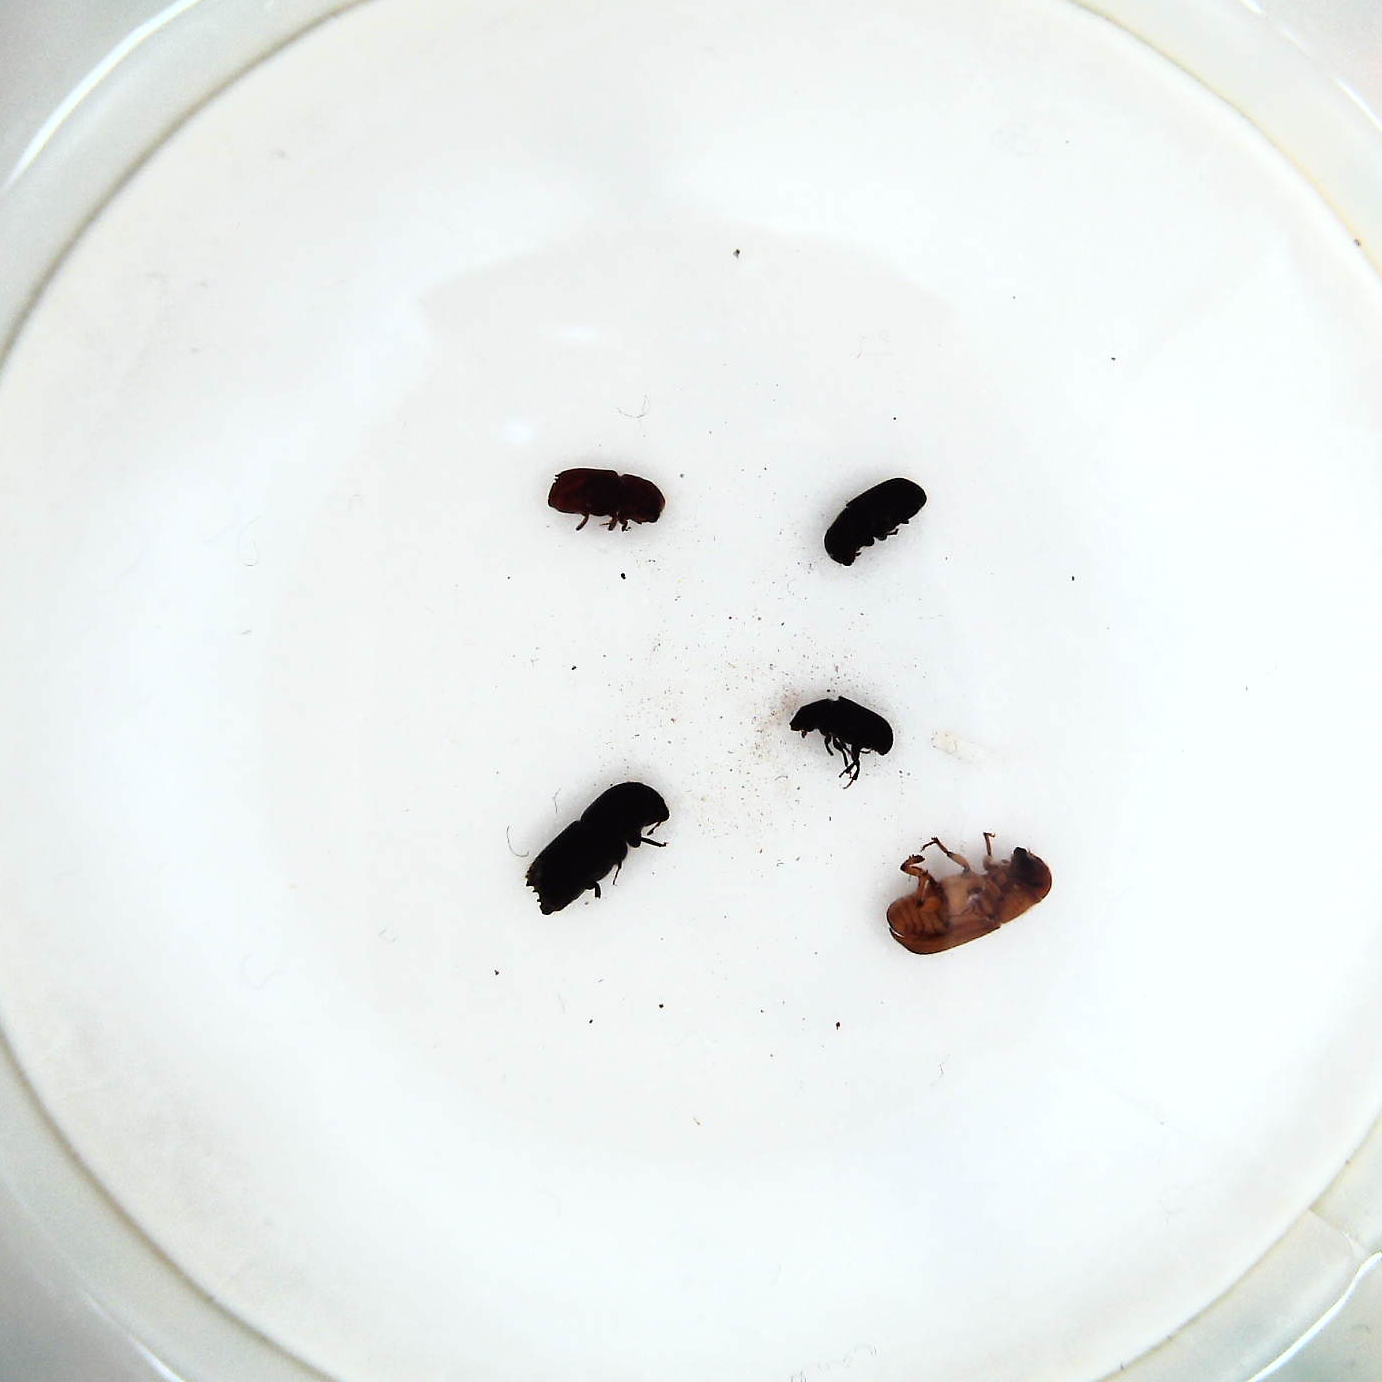Boerner: (523, 775, 680, 916)
Leconte: (885, 826, 1059, 963)
armandi: (821, 475, 929, 573)
coleoptera: (781, 697, 899, 792)
linnaeus: (542, 464, 669, 532)
